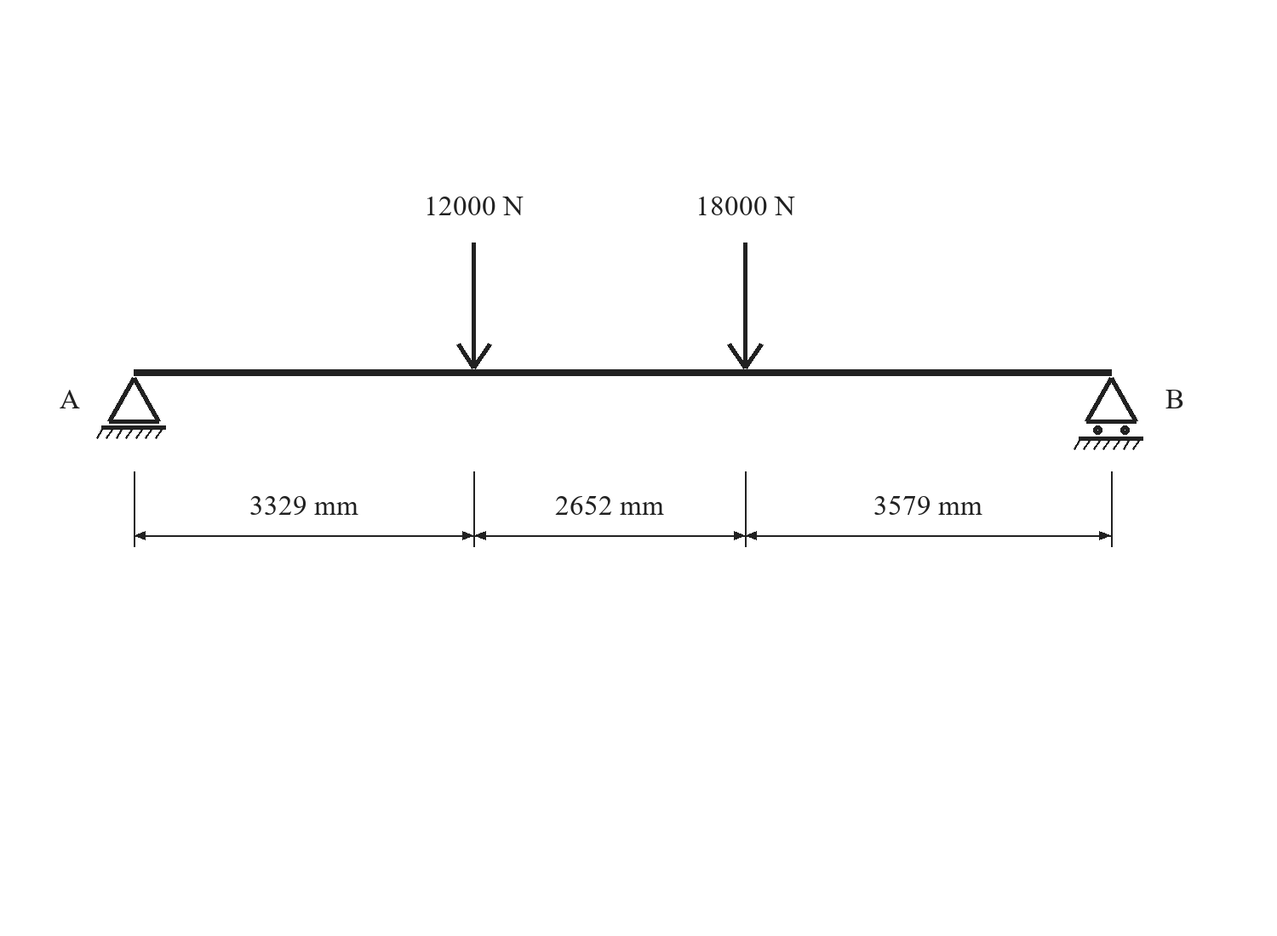pin_support: (96, 377, 166, 439)
point_load: (727, 243, 764, 369), (456, 243, 492, 369)
roller_support: (1074, 377, 1143, 450)
